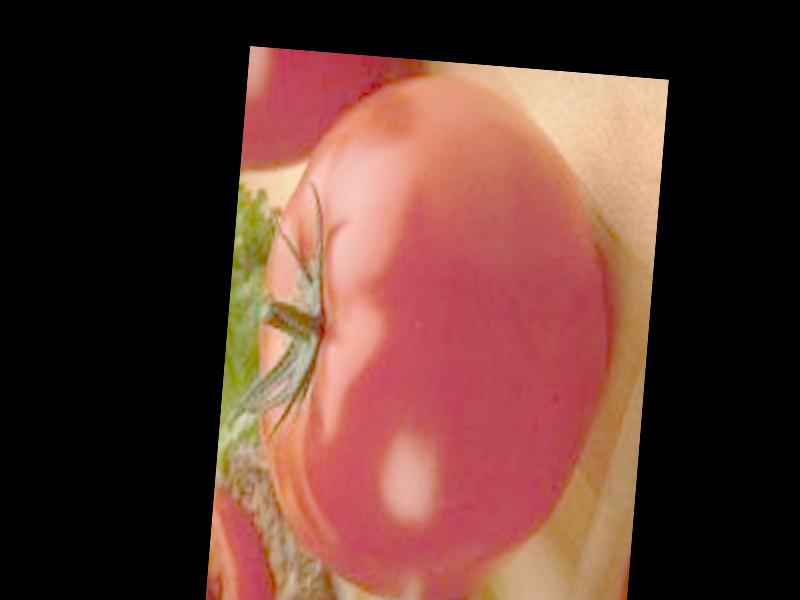Tomato: (239, 63, 621, 600)
